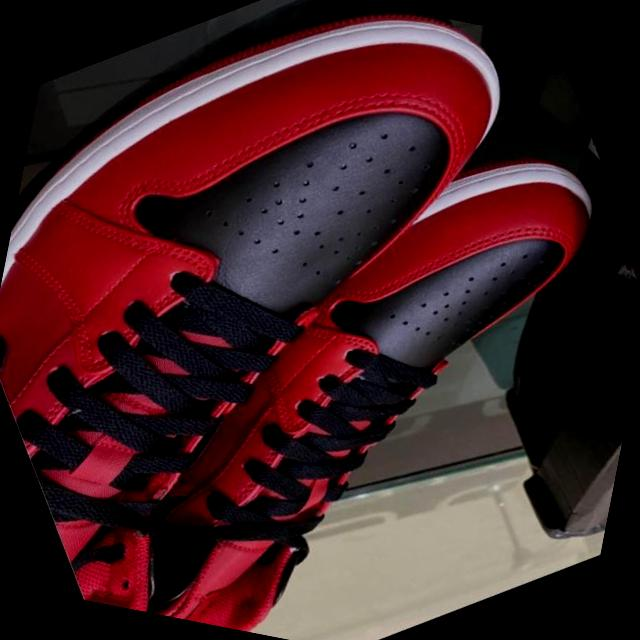nike_original_jordan: (0, 0, 640, 640), (0, 23, 640, 640)
